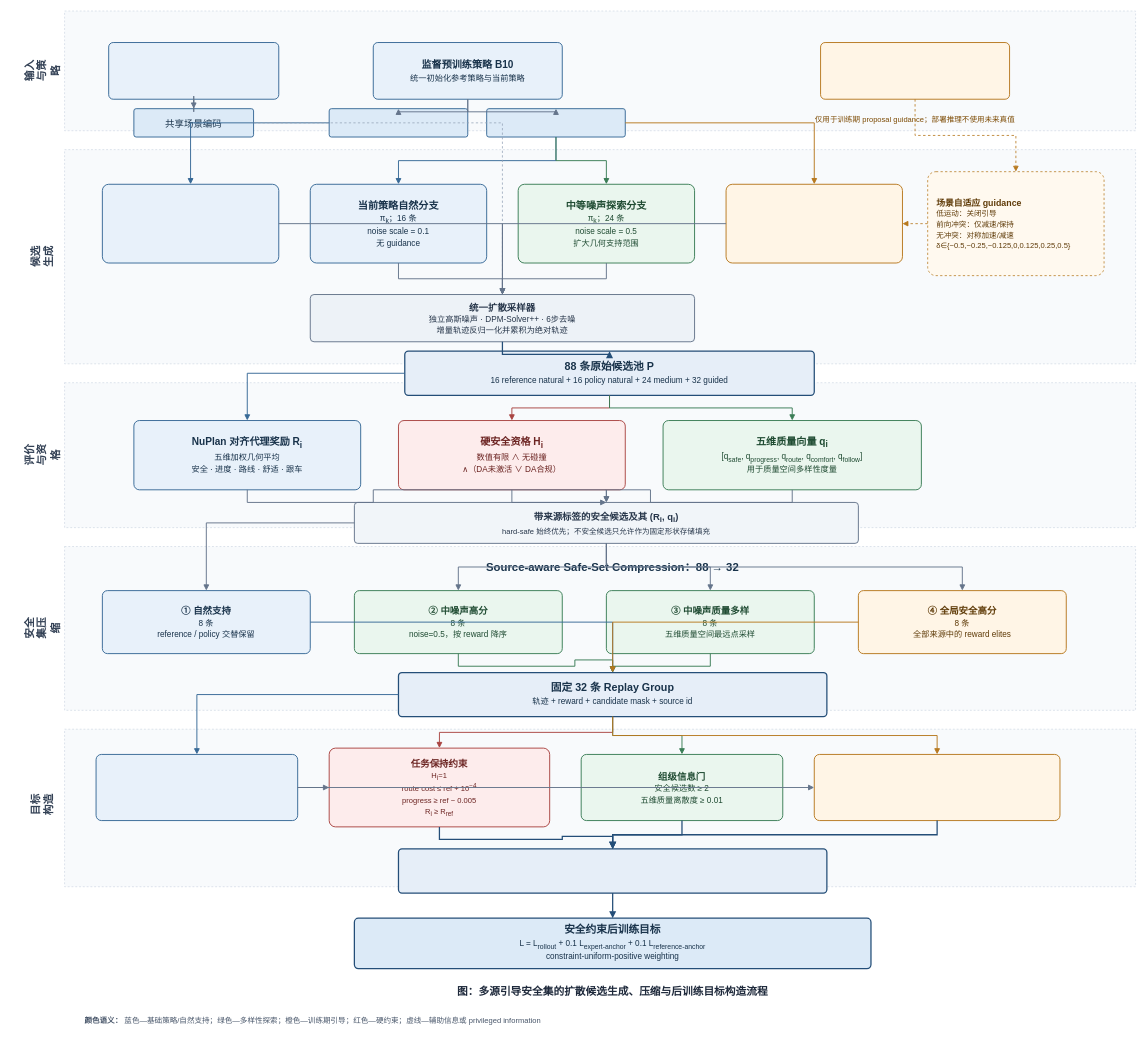
The diagram is 1147 pixels wide and 1043 high, and some of its shapes have lost their labels. The centre of each missing label's shape, as x and y in pixels:
"nuPlan 训练场景 自车/邻车历史、地图与路线" belongs at [193,70].
"冻结参考策略 π ref" belongs at [398,122].
"参考相对优势门 A i =(R i −R ref )/(σ safe +10 −6 ) A i ≥ 0.1" belongs at [937,787].
"参考自然分支 π ref ；16 条 noise scale = 0.1 无 guidance" belongs at [190,223].
"场景级参考基线 16条参考候选中选择 hard-safe 且 reward 最高者" belongs at [196,787].
"当前 EMA 策略 π k" belongs at [555,122].
"有效扩散回归目标集合 T s 约束通过的正优势候选；每场景数量可变" belongs at [612,870].
"纵向引导分支 π k ；32 条 noise scale = 0.1 guidance scale = 0.01" belongs at [814,223].
"训练期未来信息 专家轨迹与邻车未来轨迹" belongs at [915,70].
